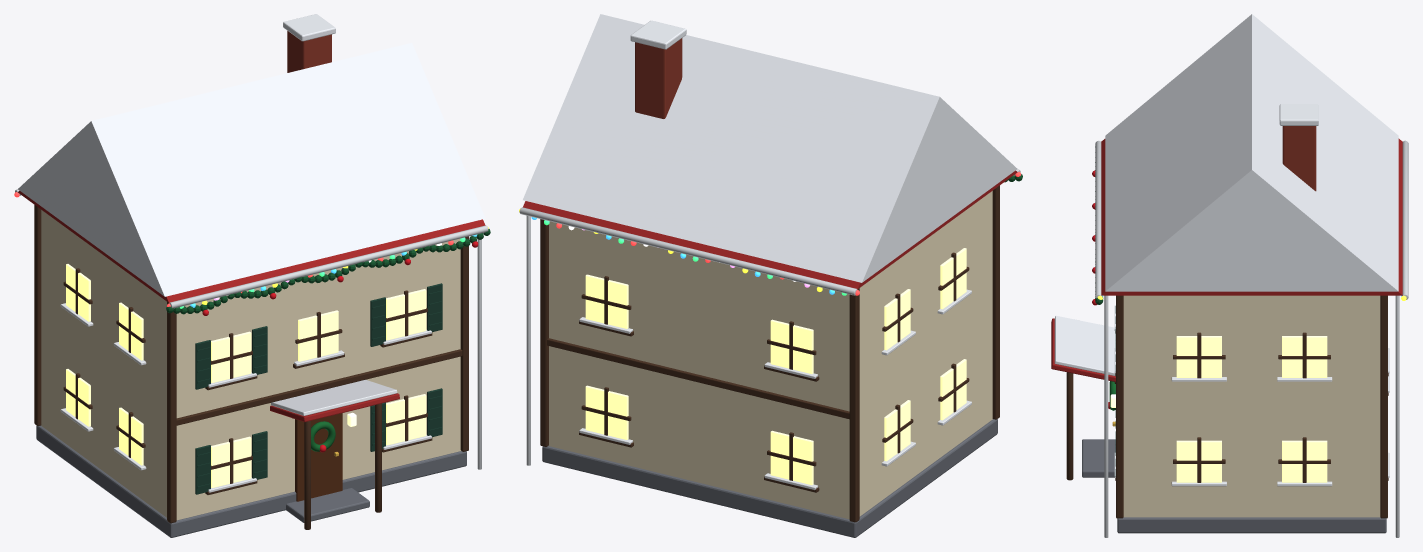
Rendered from house_cream.glb.
3 views of the same model, side by side, from view 1: azimuth 30°, elevation 25°; view 2: azimuth 150°, elevation 25°; view 3: azimuth 270°, elevation 25° (orthographic). The views are drawn at different scales.
Parts seen in each view (by area): view 1: house_cream; view 2: house_cream; view 3: house_cream.
Boxes of the visible parts, x1,y1,x2,y2 form: house_cream: (14, 14, 490, 537); house_cream: (519, 14, 1022, 537); house_cream: (1051, 14, 1408, 537).
Size of the model in its own units: 7.77 by 8.97 by 7.46.
